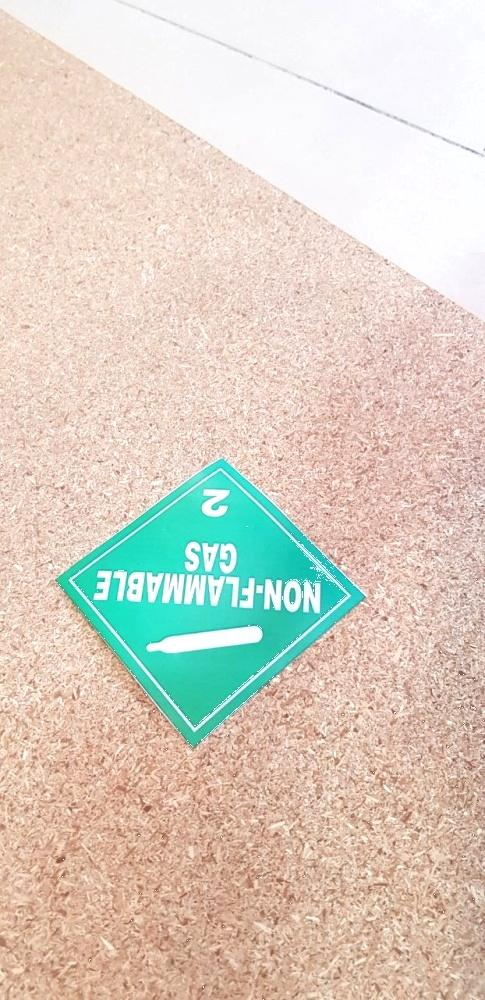non-flammable-gas: (54, 458, 366, 751)
